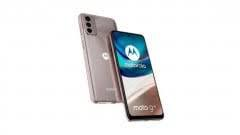Smartphone: (78, 9, 131, 105), (108, 30, 164, 120)
